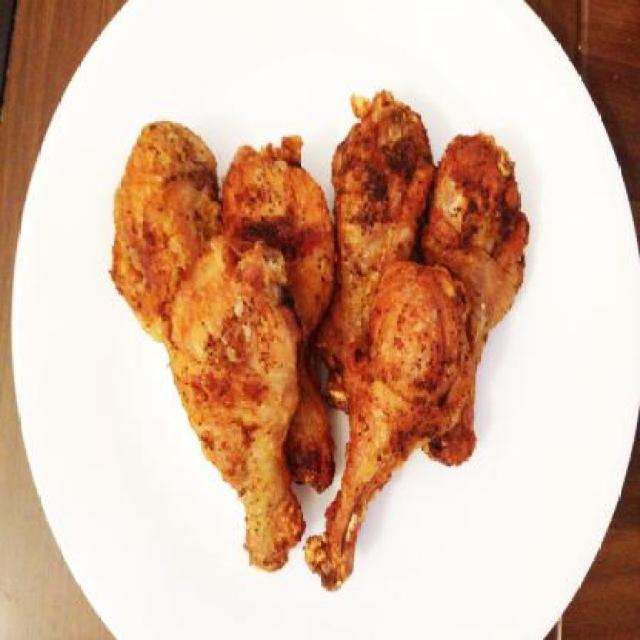Wet Waste: (303, 263, 475, 594), (163, 234, 302, 571), (217, 151, 343, 478), (311, 97, 435, 418), (112, 120, 248, 403), (423, 129, 532, 468)
